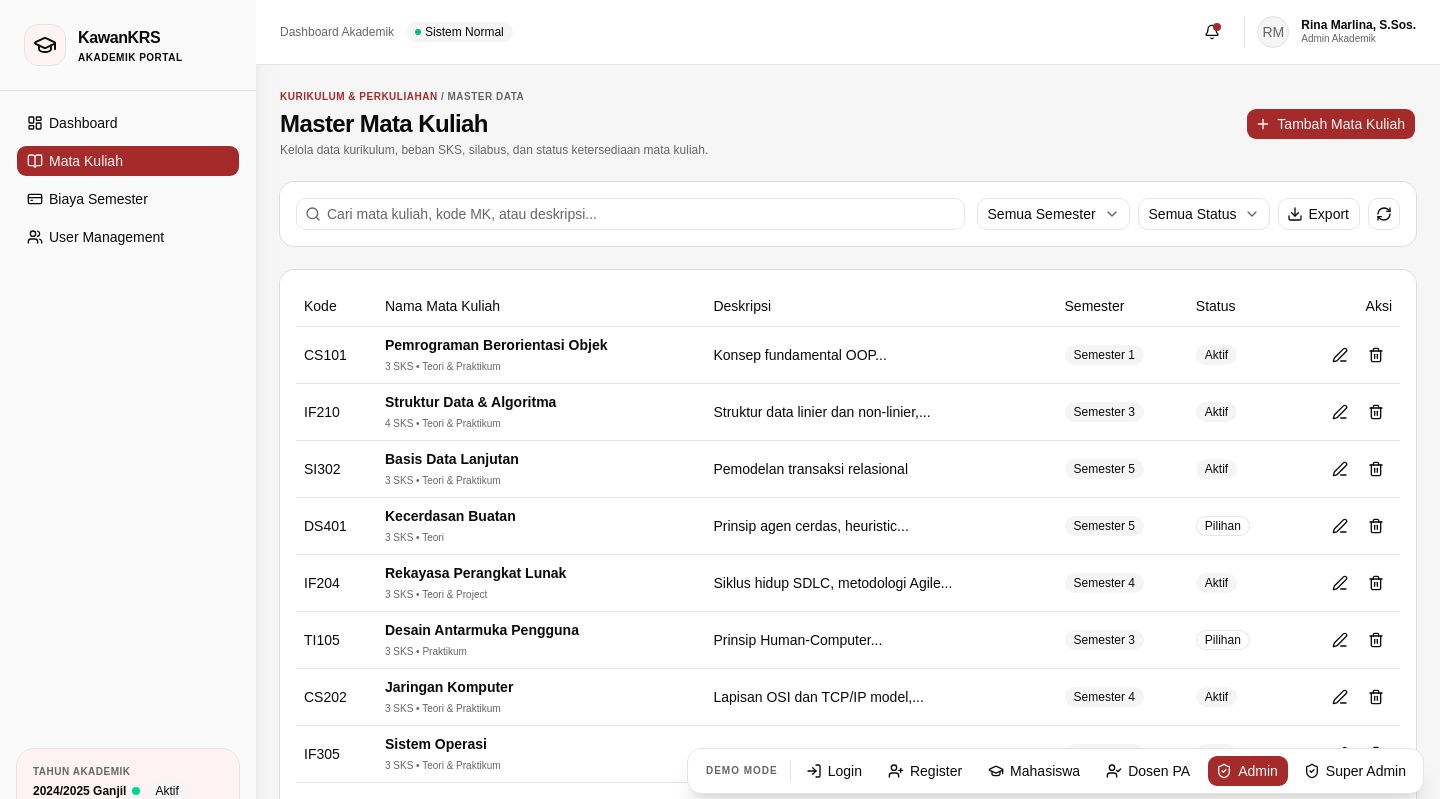
shadcn controls and accessibility › requires explicit confirmation before deleting on /admin/mata-kuliah
The image size is (1440, 799).
Click the button named "Hapus" in the row of "CS101": (1376, 354) 1360,338 -> 1392,370
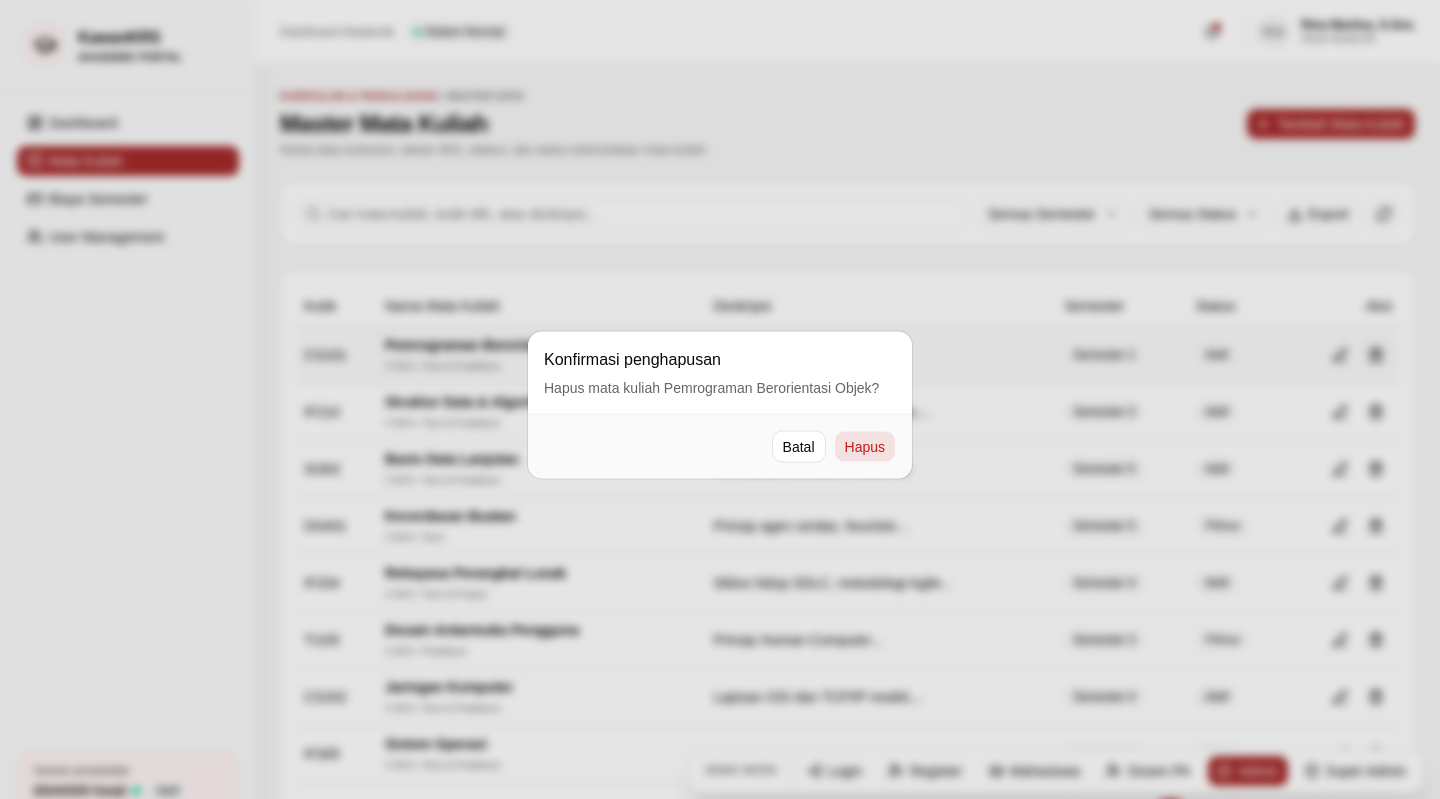
Click the button "Batal": (799, 446) 772,430 -> 826,462
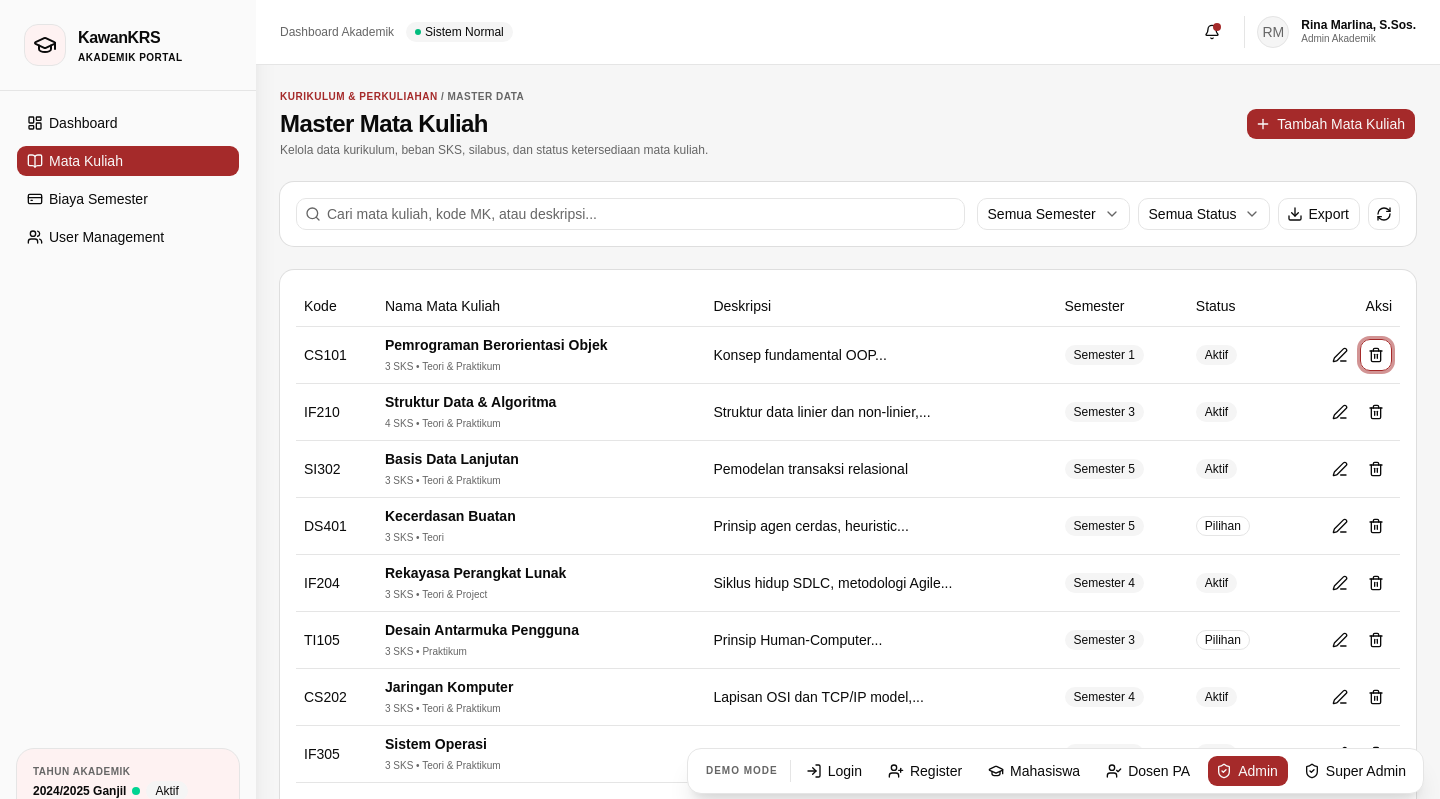
Now the dialog is gone
Click the button named "Hapus" in the row of "CS101": (1376, 354) 1360,338 -> 1392,370
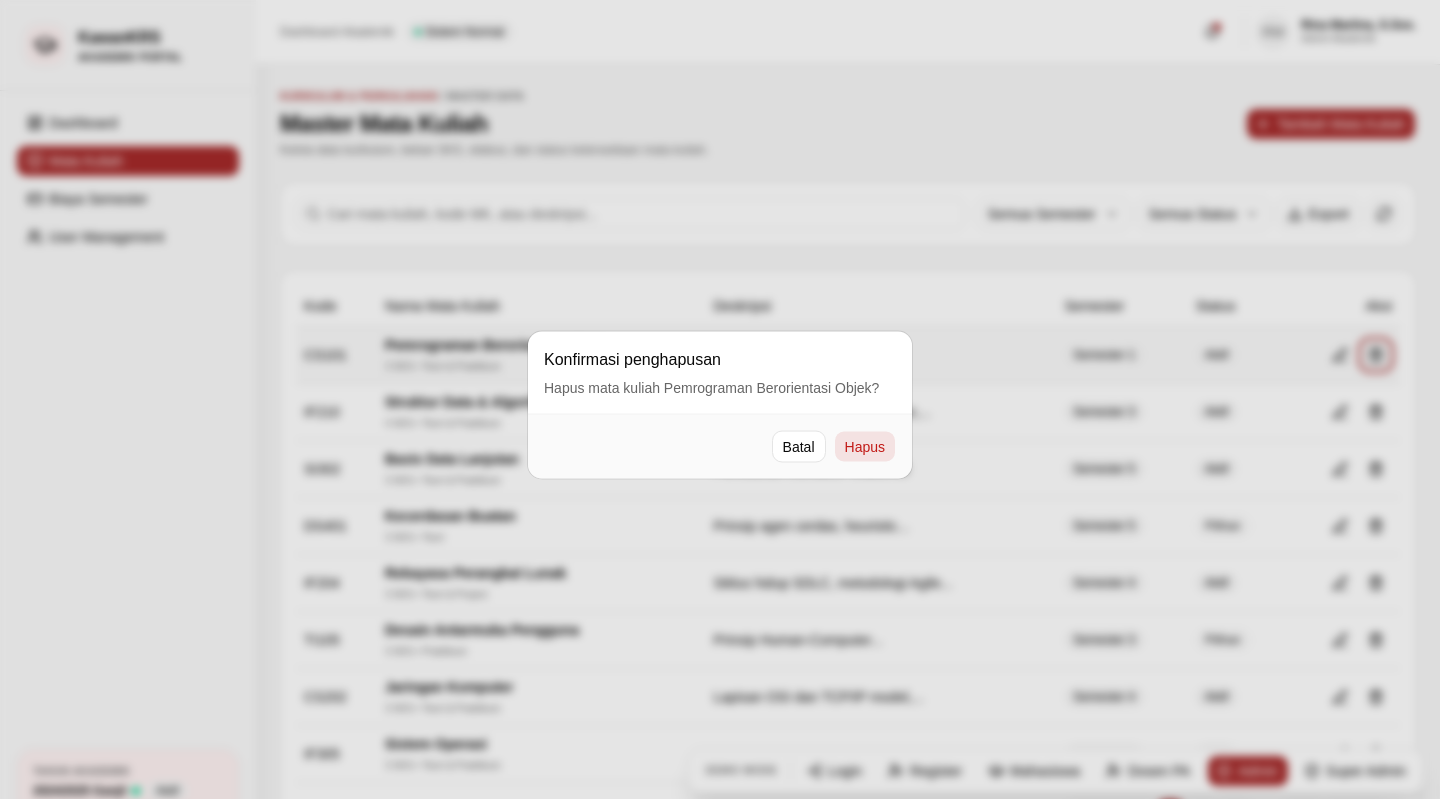
Click the button "Hapus": (865, 446) 834,430 -> 896,462
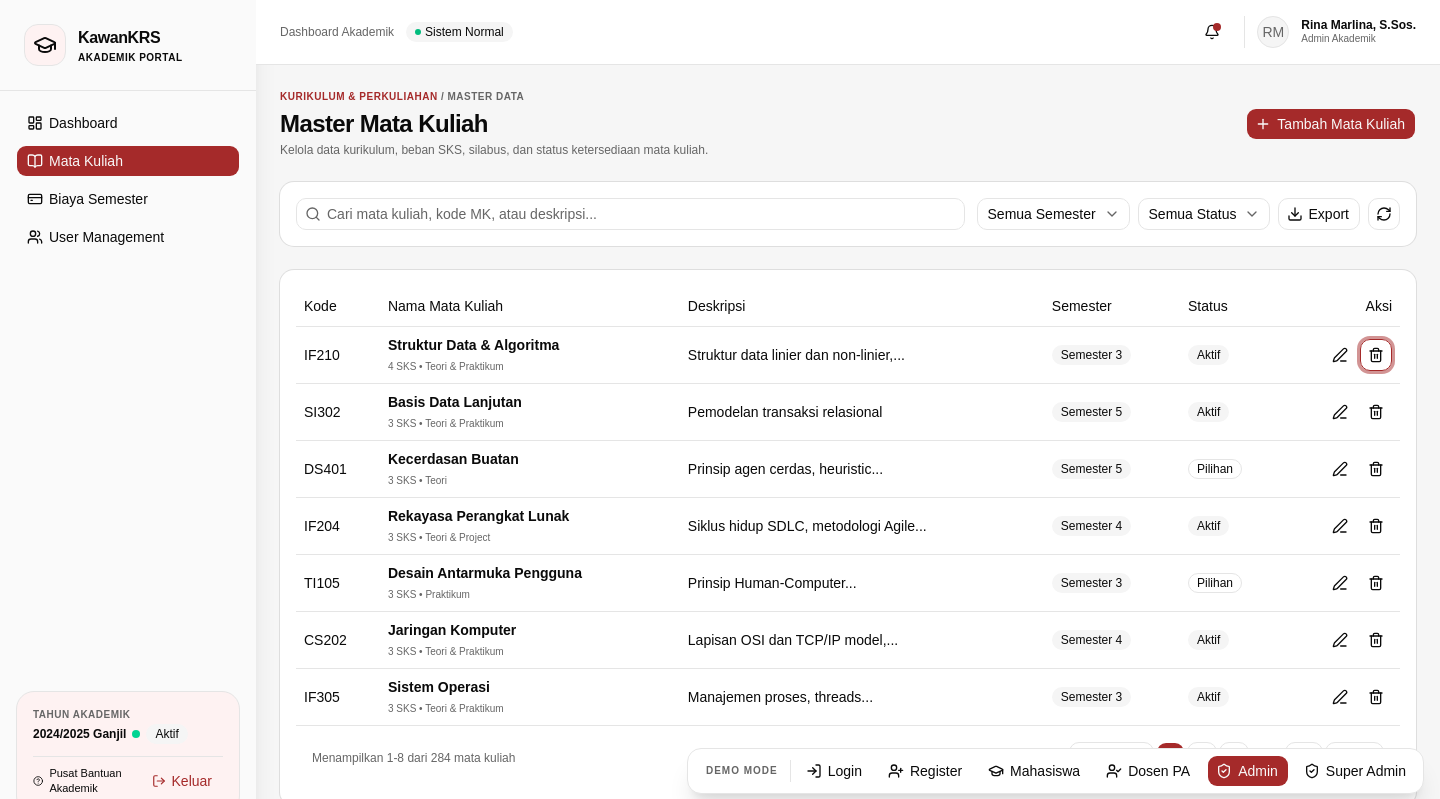
Now the dialog is gone
Now the number of rows is 8
